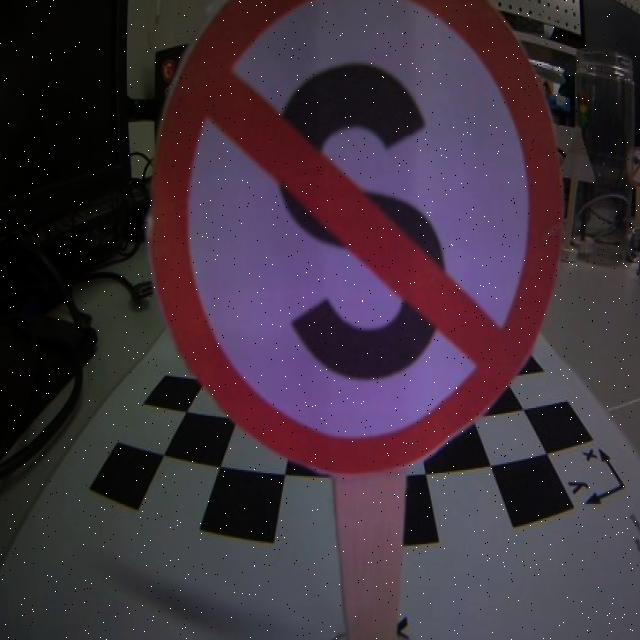Rambu Berhenti: (150, 0, 561, 471)
